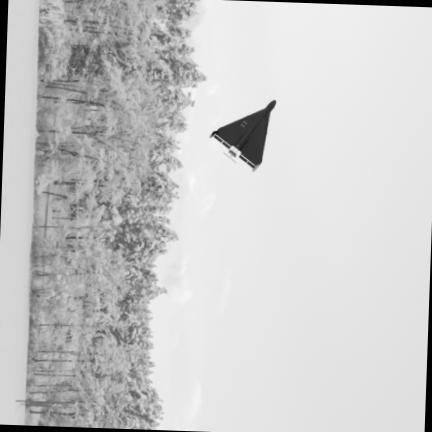Shahed: (209, 101, 275, 169)
